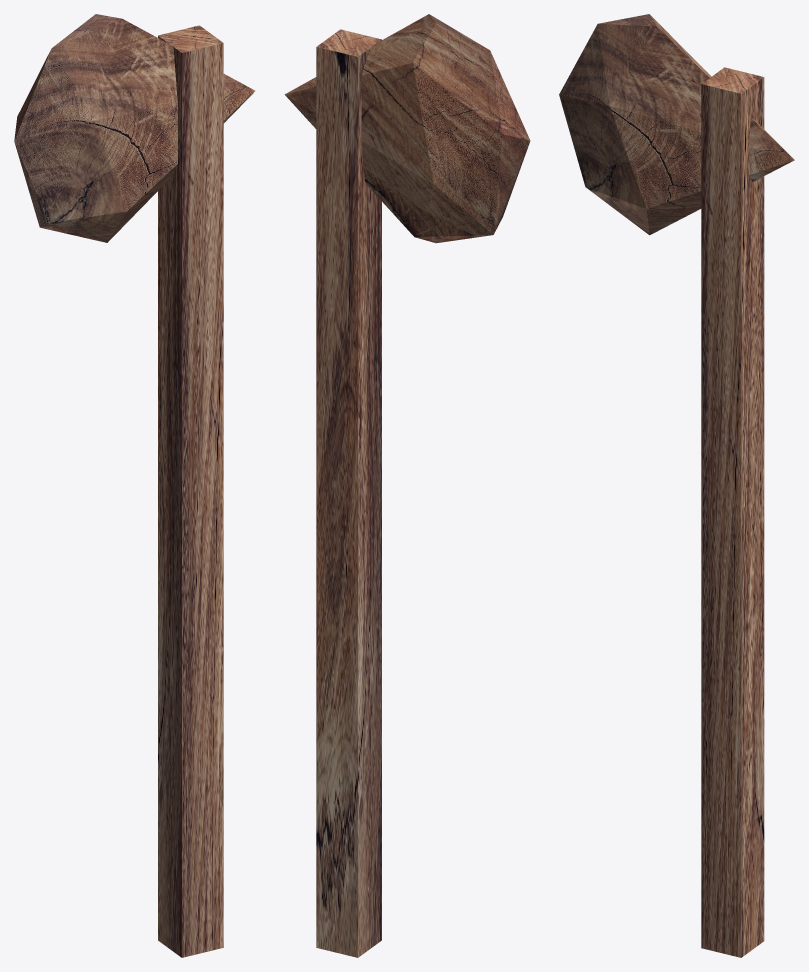
The model's file is simpleAxe.fbx.
The picture shows the model from 3 angles, left to right: view 1: azimuth 30°, elevation 25°; view 2: azimuth 150°, elevation 25°; view 3: azimuth 330°, elevation 25°; orthographic projection. The views are drawn at different scales.
Visible parts, largest first — view 1: Cube; view 2: Cube; view 3: Cube.
Boxes of the visible parts, x1,y1,x2,y2 form: Cube: [14, 14, 255, 957]; Cube: [284, 14, 530, 957]; Cube: [559, 14, 794, 957].
Bounding box in the file's own units: 1171 × 4350 × 274.
